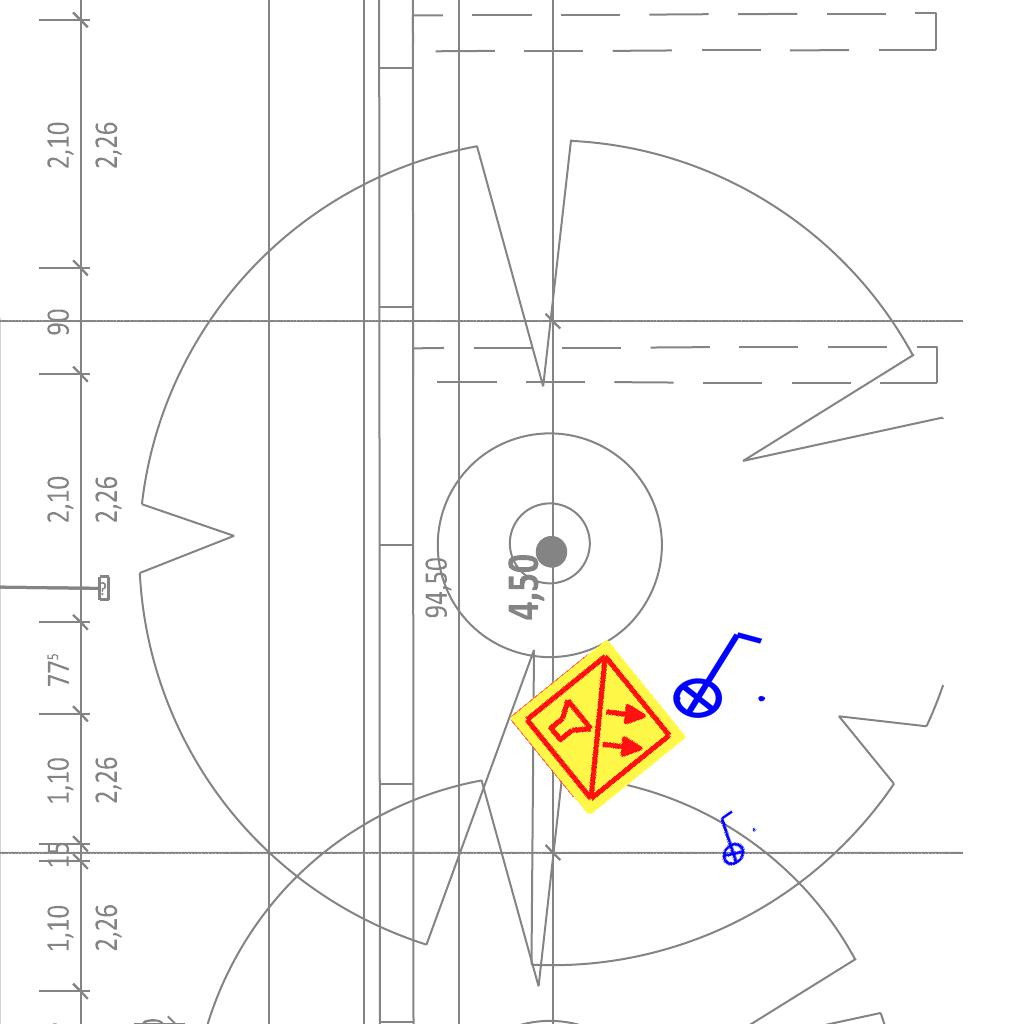Ausschalter_beleuchtet: (659, 624, 771, 720), (692, 802, 766, 876)
OKW_Multisensormelder_(Kombination_optischer_Rauch-Kahlenmonoxid_Waerme-Melder): (505, 635, 691, 821)
